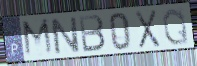0: (108, 11, 132, 51)
B: (77, 14, 107, 55)
M: (20, 17, 56, 59)
N: (49, 16, 82, 57)
Q: (161, 7, 191, 47)
X: (133, 8, 161, 51)
